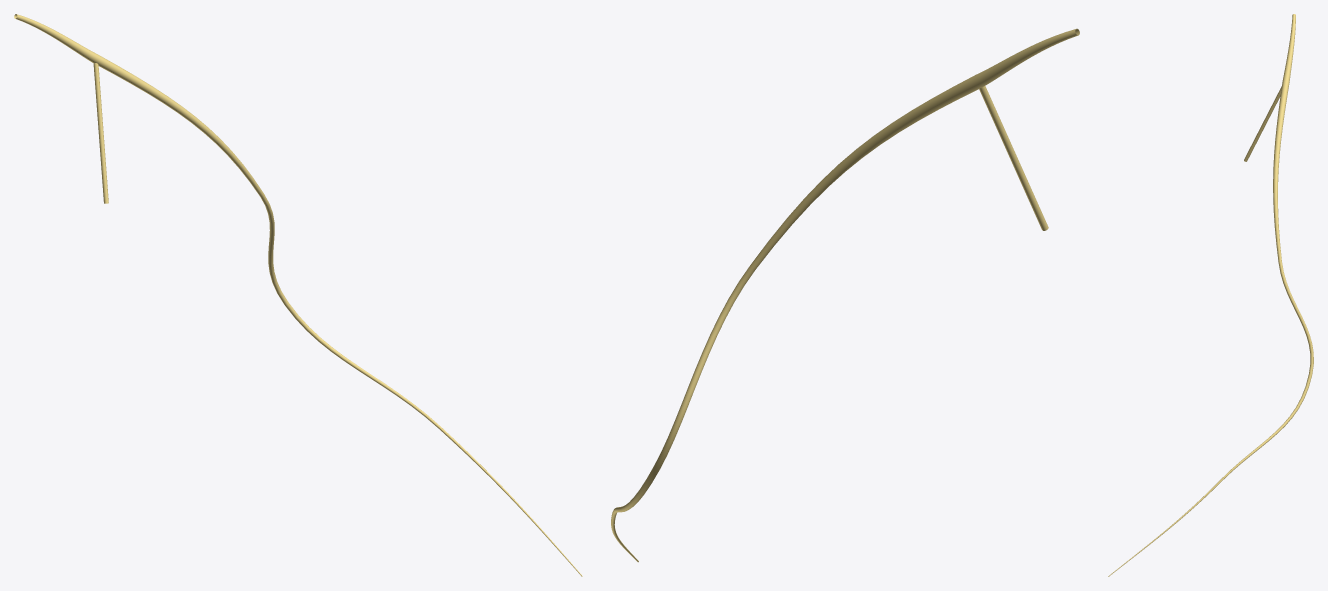
3 views of the same model, side by side, from view 1: azimuth 30°, elevation 25°; view 2: azimuth 150°, elevation 25°; view 3: azimuth 270°, elevation 25° (orthographic). The views are drawn at different scales.
Visible parts, largest first — view 1: ZA_ba90def3dd4c4b8c; view 2: ZA_ba90def3dd4c4b8c; view 3: ZA_ba90def3dd4c4b8c.
Boxes of the visible parts, bbox=[...] form: ZA_ba90def3dd4c4b8c: bbox=[14, 14, 582, 576]; ZA_ba90def3dd4c4b8c: bbox=[611, 28, 1079, 562]; ZA_ba90def3dd4c4b8c: bbox=[1108, 14, 1313, 576].
Size of the model in its own units: 0.1016 by 0.1272 by 0.0577.
